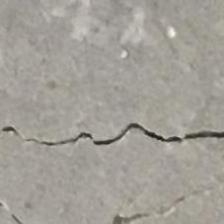Crack: (0, 111, 224, 170)
